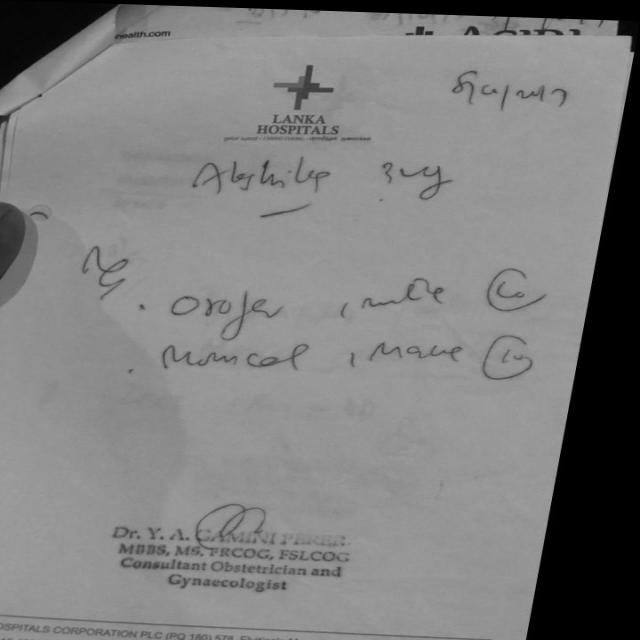Prescription: (171, 256, 561, 334), (170, 324, 548, 376)
